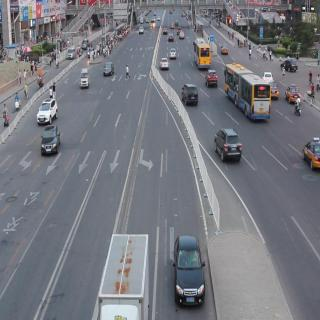BigCar: (95, 227, 153, 319), (223, 55, 272, 132), (190, 28, 214, 76)
Car: (177, 223, 207, 314), (211, 112, 243, 176), (39, 129, 64, 157), (303, 131, 320, 172), (38, 94, 60, 122), (204, 56, 221, 92), (283, 82, 301, 107), (183, 73, 195, 110), (280, 54, 294, 85), (270, 71, 282, 106), (77, 70, 93, 94), (103, 59, 116, 84), (166, 31, 177, 51), (167, 46, 179, 64), (161, 52, 171, 72), (261, 70, 271, 88), (219, 48, 231, 62), (138, 19, 145, 37), (180, 25, 184, 44)
